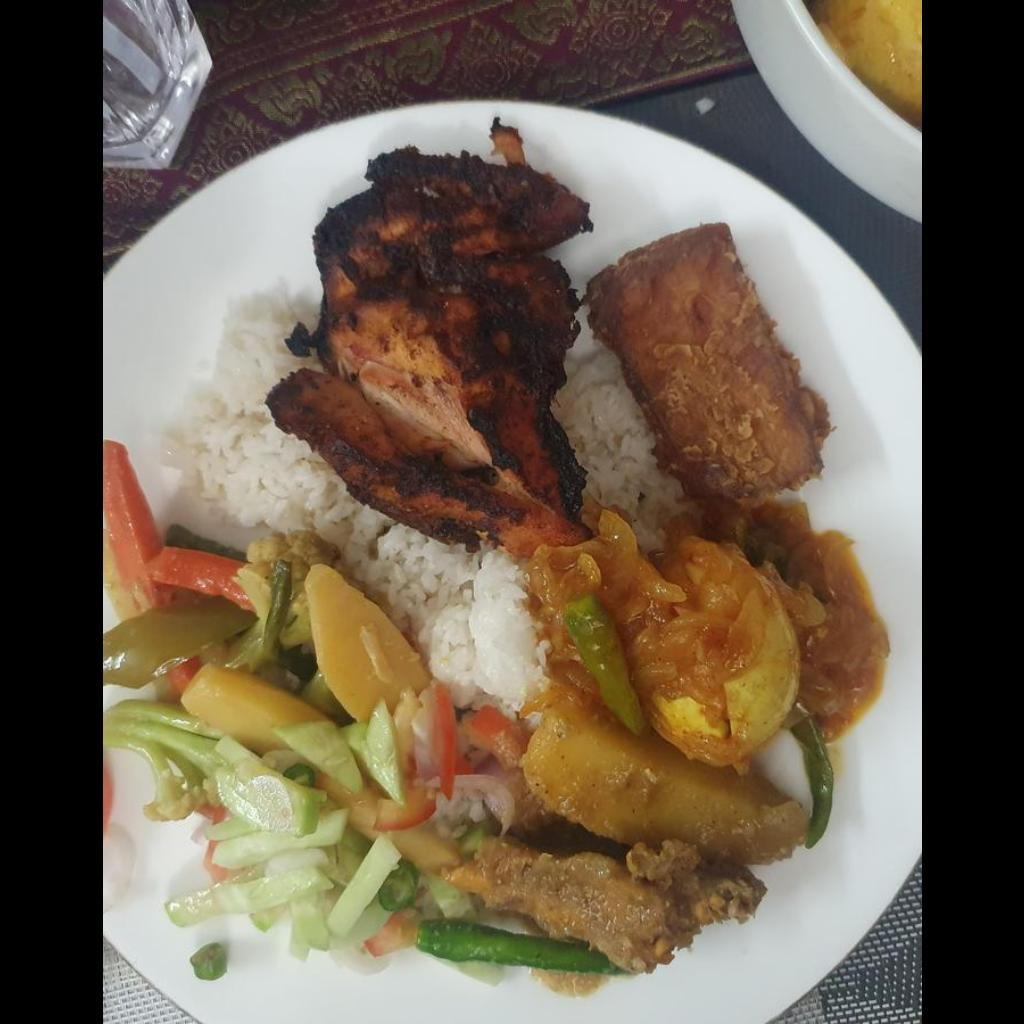chicken: (266, 141, 589, 553), (442, 837, 764, 972)
egg-boiled: (624, 536, 796, 766)
fish: (587, 224, 829, 501)
potato: (522, 664, 804, 862)
rice: (163, 278, 542, 718), (557, 352, 675, 545)
salad: (102, 700, 621, 982)
vegetable: (102, 441, 471, 872)
